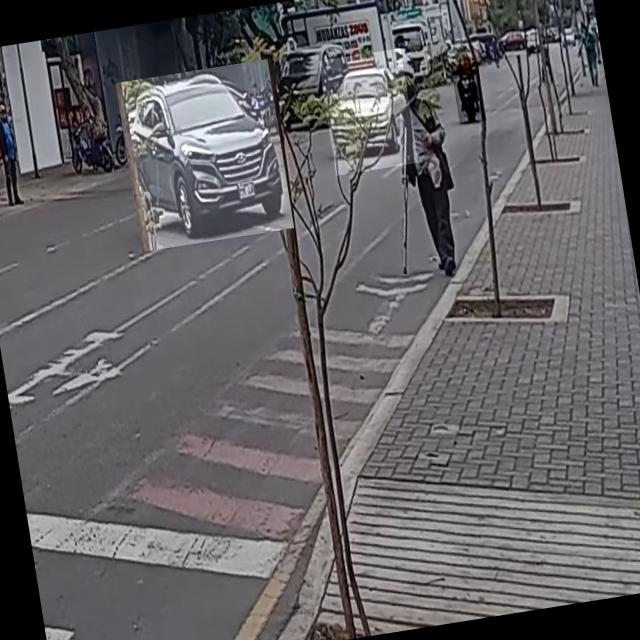car: (116, 59, 294, 252), (318, 48, 418, 175)
motorcycle: (451, 61, 487, 125)
